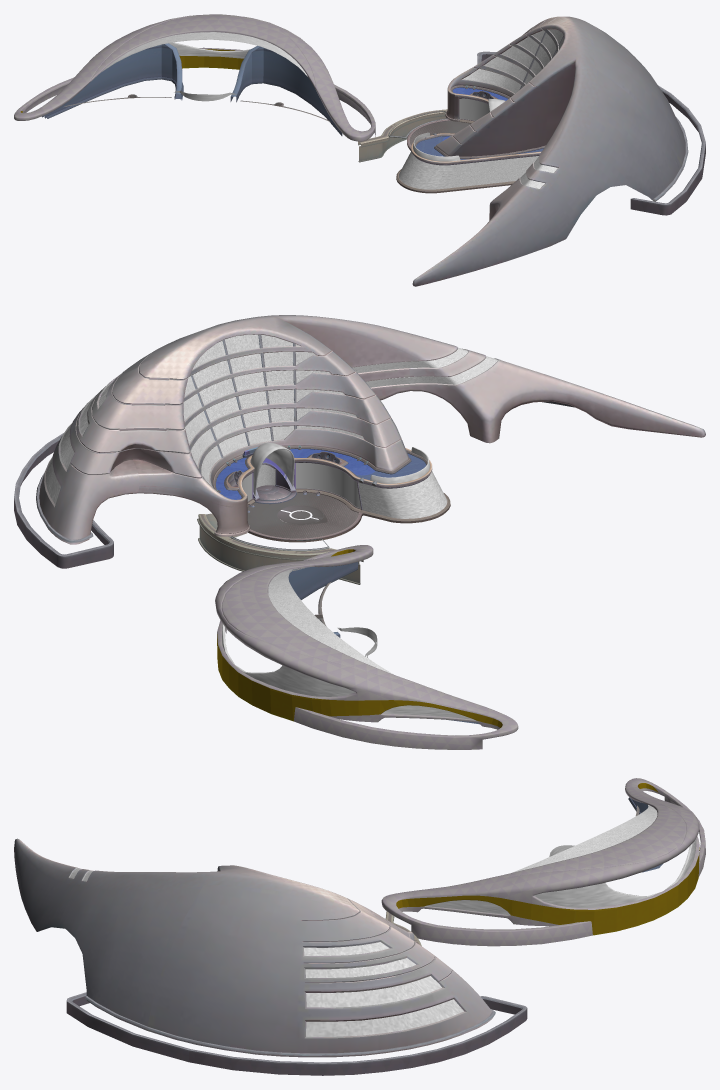
File: pref_sm_4v4beachtech_WSJ_bk_CSD_L_lv2.fbx
3 views of the same model, one above another, from view 1: azimuth 30°, elevation 25°; view 2: azimuth 150°, elevation 25°; view 3: azimuth 270°, elevation 25° (orthographic). The views are drawn at different scales.
Visible parts, largest first — view 1: sm_4v4beachtech_WSJ_bk_CSD_L_a_lv2, sm_4v4beachtech_WSJ_bk_CSD_L_g_lv2, sm_4v4beachtech_WSJ_bk_CSD_L_h_lv2, sm_4v4beachtech_WSJ_bk_CSD_L_k_lv2, sm_4v4beachtech_WSJ_bk_CSD_L_b_lv2, sm_4v4beachtech_WSJ_bk_CSD_L_i_lv2, sm_4v4beachtech_WSJ_bk_CSD_L_j_lv2, sm_4v4beachtech_WSJ_bk_CSD_L_f_lv2, sm_4v4beachtech_WSJ_bk_CSD_L_c_lv2; view 2: sm_4v4beachtech_WSJ_bk_CSD_L_a_lv2, sm_4v4beachtech_WSJ_bk_CSD_L_g_lv2, sm_4v4beachtech_WSJ_bk_CSD_L_b_lv2, sm_4v4beachtech_WSJ_bk_CSD_L_h_lv2, sm_4v4beachtech_WSJ_bk_CSD_L_k_lv2, sm_4v4beachtech_WSJ_bk_CSD_L_i_lv2, sm_4v4beachtech_WSJ_bk_CSD_L_j_lv2, sm_4v4beachtech_WSJ_bk_CSD_L_f_lv2, sm_4v4beachtech_WSJ_bk_CSD_L_c_lv2, sm_4v4beachtech_WSJ_bk_CSD_L_d_lv2; view 3: sm_4v4beachtech_WSJ_bk_CSD_L_a_lv2, sm_4v4beachtech_WSJ_bk_CSD_L_g_lv2, sm_4v4beachtech_WSJ_bk_CSD_L_k_lv2, sm_4v4beachtech_WSJ_bk_CSD_L_h_lv2, sm_4v4beachtech_WSJ_bk_CSD_L_i_lv2.
Part boxes in pixels (x1,y1,x2,y2): sm_4v4beachtech_WSJ_bk_CSD_L_a_lv2: (396, 16, 705, 286); sm_4v4beachtech_WSJ_bk_CSD_L_g_lv2: (14, 14, 375, 141); sm_4v4beachtech_WSJ_bk_CSD_L_h_lv2: (20, 43, 342, 135); sm_4v4beachtech_WSJ_bk_CSD_L_k_lv2: (399, 99, 538, 189); sm_4v4beachtech_WSJ_bk_CSD_L_b_lv2: (462, 29, 563, 188); sm_4v4beachtech_WSJ_bk_CSD_L_i_lv2: (102, 32, 307, 101); sm_4v4beachtech_WSJ_bk_CSD_L_j_lv2: (358, 109, 448, 162); sm_4v4beachtech_WSJ_bk_CSD_L_f_lv2: (409, 120, 470, 145); sm_4v4beachtech_WSJ_bk_CSD_L_c_lv2: (459, 98, 489, 120); sm_4v4beachtech_WSJ_bk_CSD_L_a_lv2: (14, 315, 705, 568); sm_4v4beachtech_WSJ_bk_CSD_L_g_lv2: (215, 545, 518, 749); sm_4v4beachtech_WSJ_bk_CSD_L_b_lv2: (183, 334, 497, 487); sm_4v4beachtech_WSJ_bk_CSD_L_h_lv2: (217, 549, 502, 727); sm_4v4beachtech_WSJ_bk_CSD_L_k_lv2: (45, 381, 447, 518); sm_4v4beachtech_WSJ_bk_CSD_L_i_lv2: (222, 568, 474, 719); sm_4v4beachtech_WSJ_bk_CSD_L_j_lv2: (197, 513, 363, 584); sm_4v4beachtech_WSJ_bk_CSD_L_f_lv2: (247, 492, 358, 538); sm_4v4beachtech_WSJ_bk_CSD_L_c_lv2: (242, 462, 360, 508); sm_4v4beachtech_WSJ_bk_CSD_L_d_lv2: (277, 505, 323, 524); sm_4v4beachtech_WSJ_bk_CSD_L_a_lv2: (14, 838, 527, 1075); sm_4v4beachtech_WSJ_bk_CSD_L_g_lv2: (381, 778, 705, 946); sm_4v4beachtech_WSJ_bk_CSD_L_k_lv2: (304, 942, 463, 1036); sm_4v4beachtech_WSJ_bk_CSD_L_h_lv2: (396, 783, 699, 935); sm_4v4beachtech_WSJ_bk_CSD_L_i_lv2: (426, 805, 696, 914).
Bounding box in the file's own units: 73.91 × 17.49 × 75.69.
